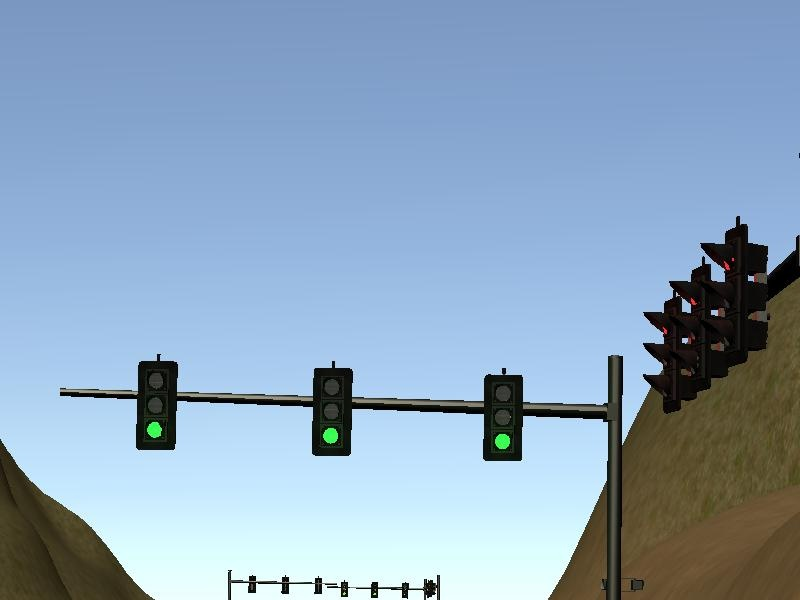green: (132, 353, 183, 452), (310, 361, 357, 460), (478, 370, 526, 466)
